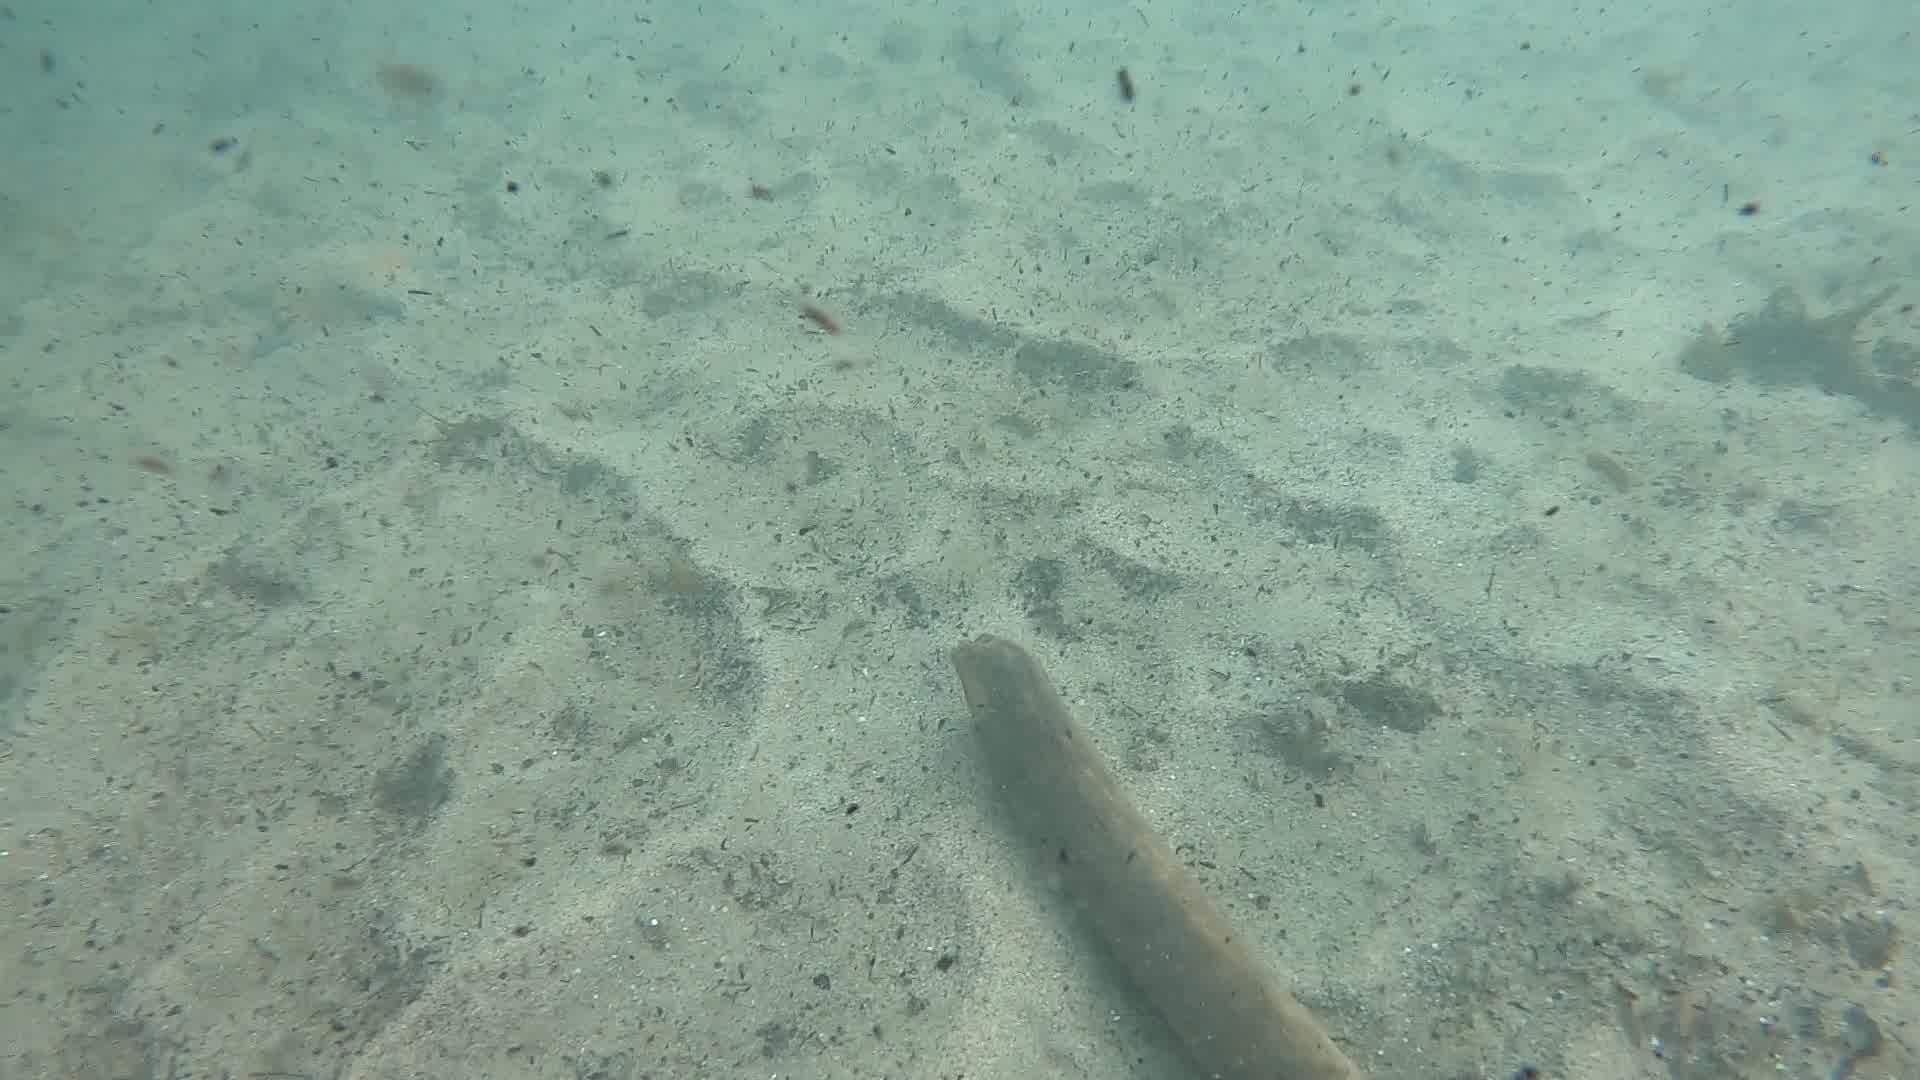wood: (945, 629, 1375, 1080)
